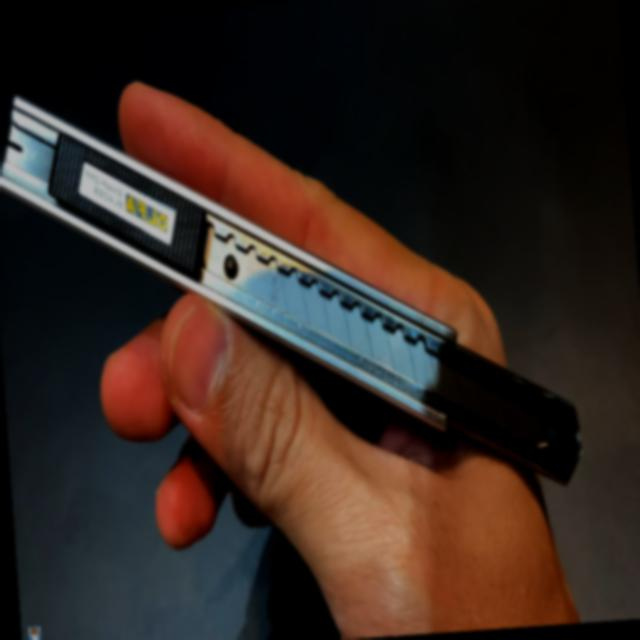cutter: (0, 52, 611, 640)
